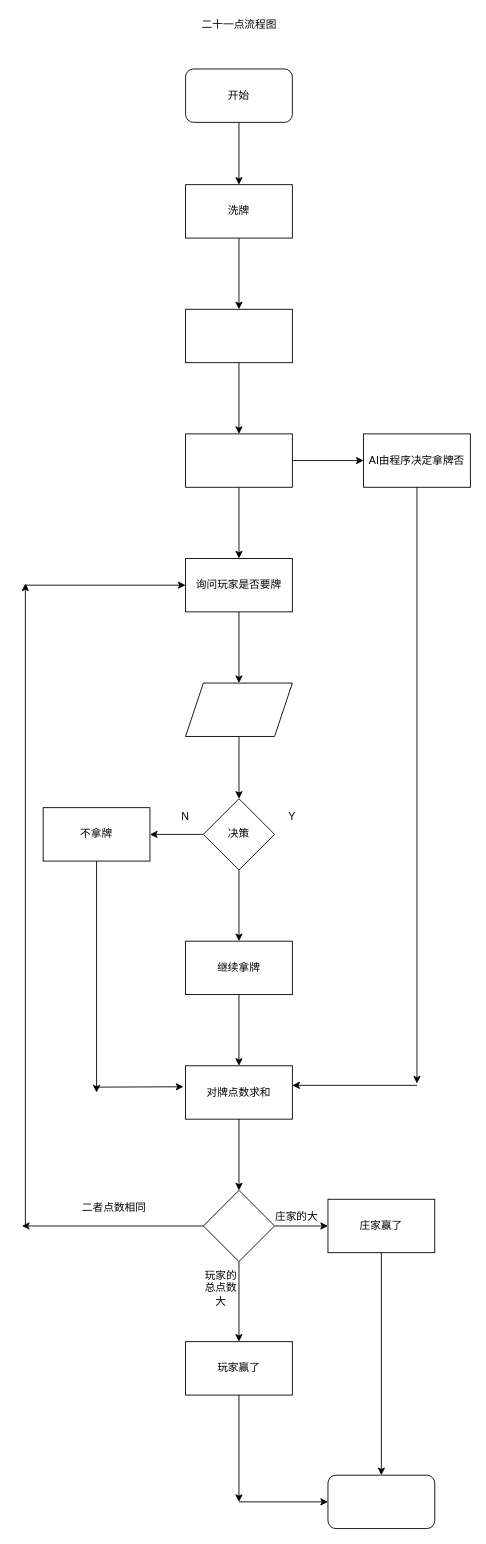
This 486x1544 diagram has some shape labels left out. Here are the shapes that lost their labels. From the top down, the centre of each, then its label:
At point 238,335: "给庄家和玩家各发两张牌".
At point 238,460: "打印双方的牌".
At point 238,709: "玩家输入（y/n）".
At point 238,1225: "比较双方总点数大小".
At point 381,1501: "结束".
